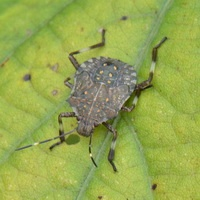insect: (15, 29, 166, 171), (28, 0, 157, 106), (40, 140, 83, 166)
